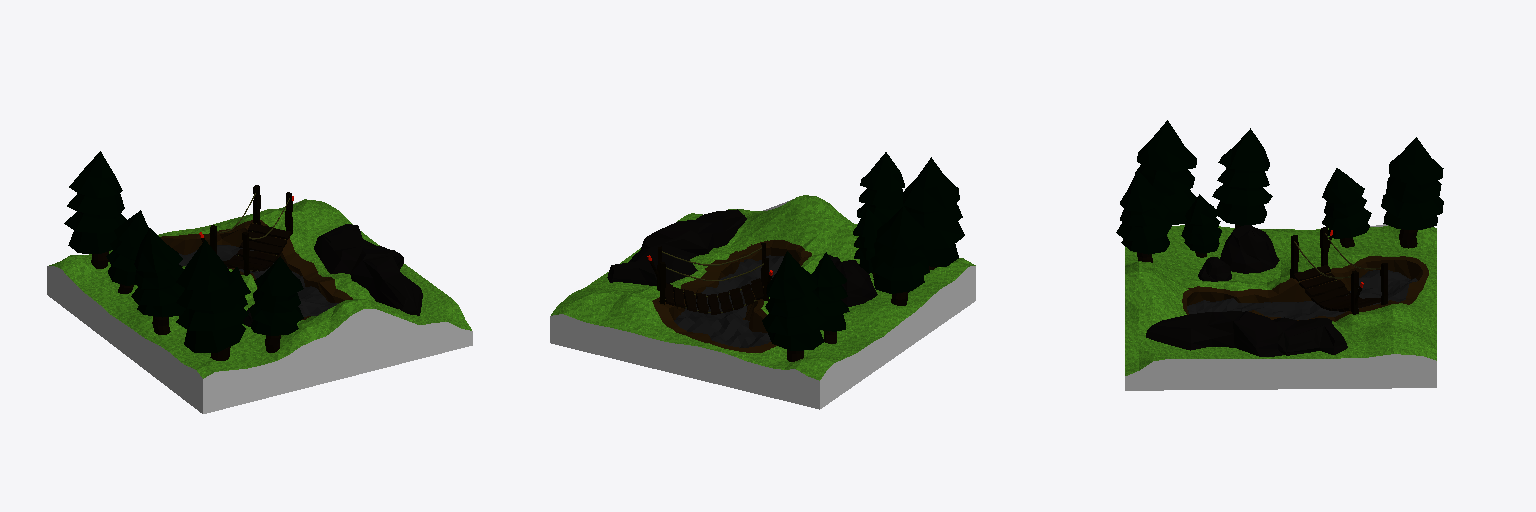
The picture shows the model from 3 angles: view 1: azimuth 30°, elevation 25°; view 2: azimuth 150°, elevation 25°; view 3: azimuth 270°, elevation 25°; orthographic projection.
Visible parts, largest first — view 1: Ground_Cube, Trunk.006_Cylinder.021, Rock1_Cube.001, Trunk.005_Cylinder.019, Trunk.001_Cylinder.011, Trunk.002_Cylinder.013, GroundOutline_Cube.030, Trunk_Cylinder.004, Water_Cube.007; view 2: Ground_Cube, Rock1_Cube.001, Trunk.005_Cylinder.019, Trunk.006_Cylinder.021, Trunk.001_Cylinder.011, GroundOutline_Cube.030, Water_Cube.007, Trunk.002_Cylinder.013, Trunk_Cylinder.004, Boulder3_Sphere, Trunk.003_Cylinder.015; view 3: Ground_Cube, Rock1_Cube.001, Trunk.005_Cylinder.019, GroundOutline_Cube.030, Trunk.001_Cylinder.011, Trunk.006_Cylinder.021, Trunk.002_Cylinder.013, Water_Cube.007, Trunk_Cylinder.004, Boulder3_Sphere, Trunk.003_Cylinder.015, Boulder1_Sphere.001.
Boxes of the visible parts, <box> form: Ground_Cube: <box>47,199,472,413</box>; Trunk.006_Cylinder.021: <box>176,240,248,352</box>; Rock1_Cube.001: <box>314,224,422,315</box>; Trunk.005_Cylinder.019: <box>64,151,126,253</box>; Trunk.001_Cylinder.011: <box>131,228,185,317</box>; Trunk.002_Cylinder.013: <box>249,256,303,335</box>; GroundOutline_Cube.030: <box>160,220,352,319</box>; Trunk_Cylinder.004: <box>106,210,148,285</box>; Water_Cube.007: <box>179,245,338,316</box>; Ground_Cube: <box>550,195,975,409</box>; Rock1_Cube.001: <box>607,209,746,285</box>; Trunk.005_Cylinder.019: <box>762,251,826,350</box>; Trunk.006_Cylinder.021: <box>903,157,964,266</box>; Trunk.001_Cylinder.011: <box>870,206,929,293</box>; GroundOutline_Cube.030: <box>652,240,811,352</box>; Water_Cube.007: <box>674,255,783,347</box>; Trunk.002_Cylinder.013: <box>857,152,904,224</box>; Trunk_Cylinder.004: <box>812,252,849,331</box>; Boulder3_Sphere: <box>835,260,877,306</box>; Trunk.003_Cylinder.015: <box>853,208,882,273</box>; Ground_Cube: <box>1125,224,1436,390</box>; Rock1_Cube.001: <box>1146,311,1347,356</box>; Trunk.005_Cylinder.019: <box>1381,137,1443,229</box>; GroundOutline_Cube.030: <box>1182,256,1428,321</box>; Trunk.001_Cylinder.011: <box>1212,128,1272,225</box>; Trunk.006_Cylinder.021: <box>1135,120,1196,224</box>; Trunk.002_Cylinder.013: <box>1116,170,1171,254</box>; Water_Cube.007: <box>1187,270,1417,319</box>; Trunk_Cylinder.004: <box>1322,168,1371,238</box>; Boulder3_Sphere: <box>1220,225,1279,273</box>; Trunk.003_Cylinder.015: <box>1181,194,1221,253</box>; Boulder1_Sphere.001: <box>1198,257,1231,281</box>.
Size of the model in its own units: 8.2 by 4.71 by 8.34.
11 materials, 1 textured.